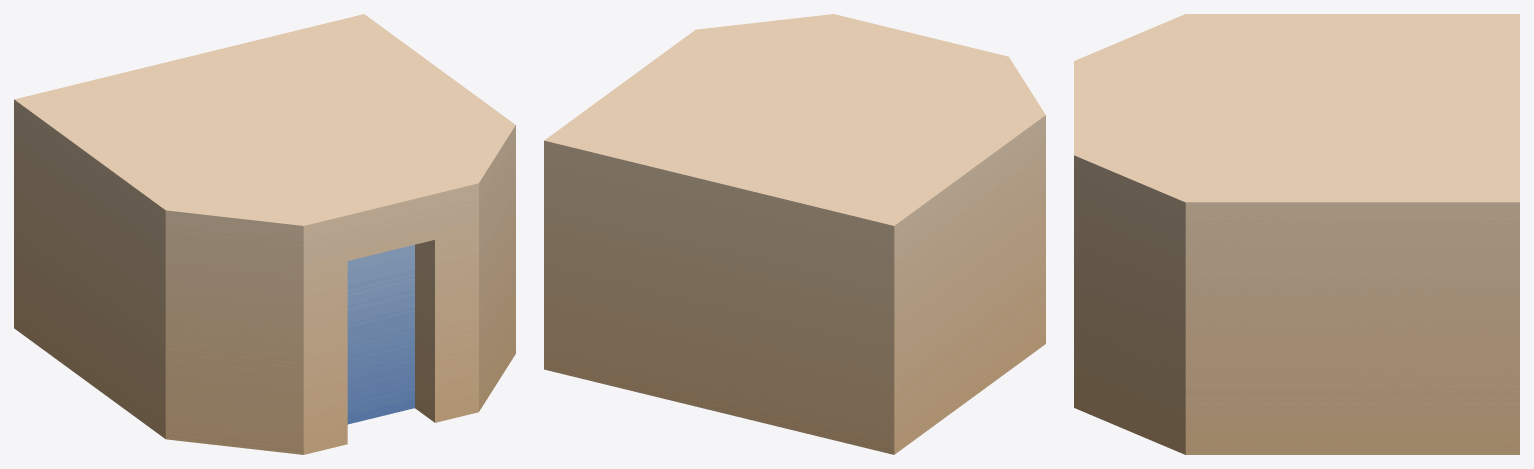
The model's file is building-edges-door.glb.
3 renders of one model, left to right at view 1: azimuth 30°, elevation 25°; view 2: azimuth 150°, elevation 25°; view 3: azimuth 270°, elevation 25°, orthographic. The views are drawn at different scales.
Visible parts, largest first — view 1: building-edges-door; view 2: building-edges-door; view 3: building-edges-door.
Part boxes in pixels (<box>): building-edges-door: <box>14,14,515,454</box>; building-edges-door: <box>544,14,1045,454</box>; building-edges-door: <box>1074,14,1519,454</box>.
Bounding box in the file's own units: 1 × 0.625 × 1.
1 material, 1 textured.
